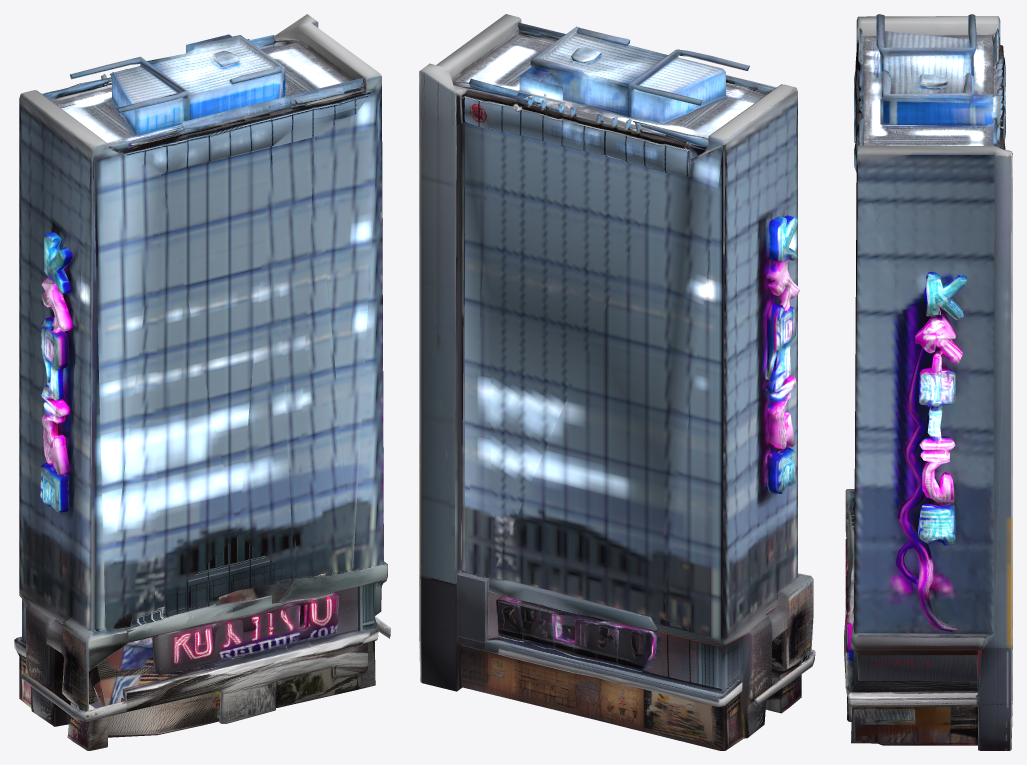
The model's file is shopping_1.glb.
3 views of the same model, side by side, from view 1: azimuth 30°, elevation 25°; view 2: azimuth 150°, elevation 25°; view 3: azimuth 270°, elevation 25° (orthographic). The views are drawn at different scales.
Bounding box in the file's own units: 1.03 × 1.91 × 0.4736.
Materials: 1 (1 with a texture image).
